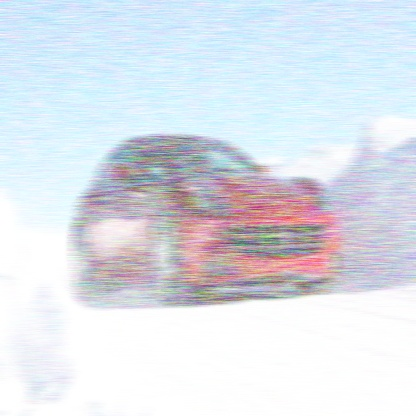Vehicle: (72, 133, 342, 307)
